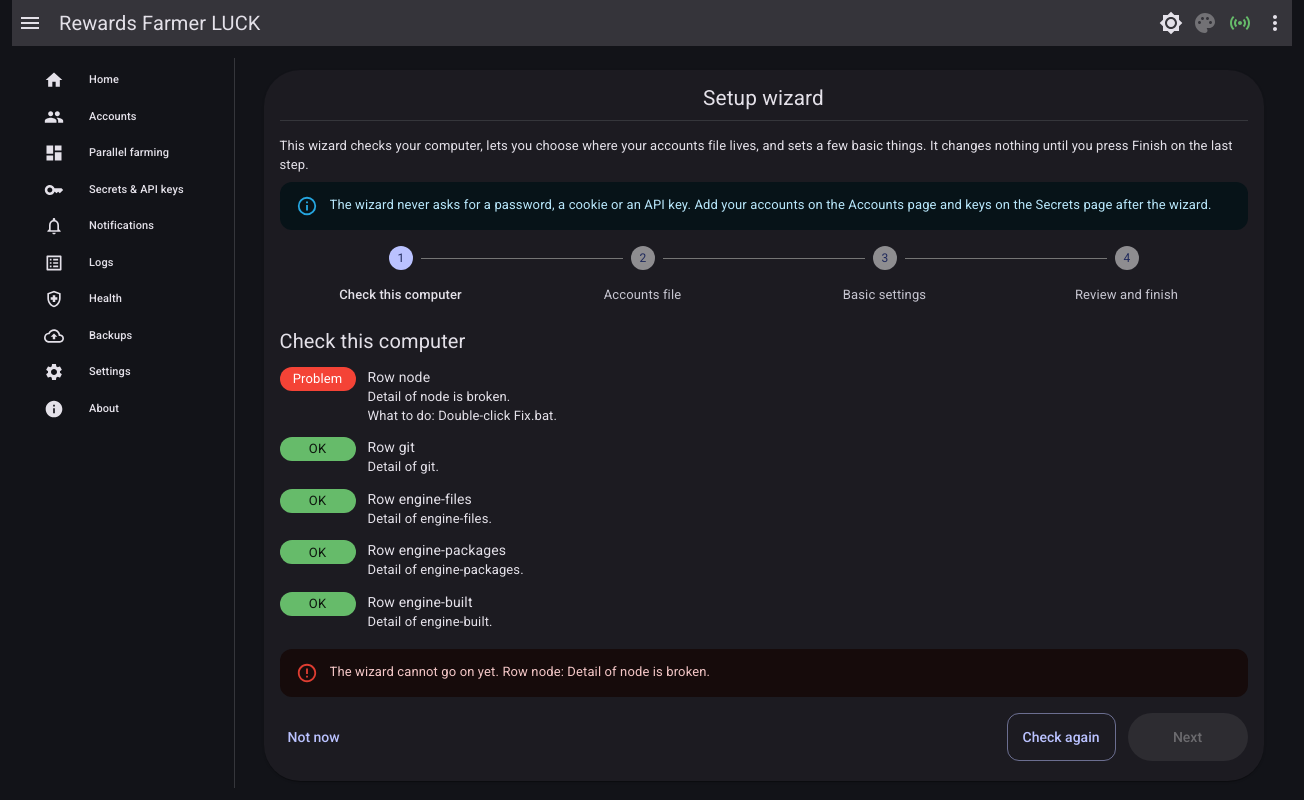
Test: step 1: computer check › Check again runs the check again and can turn the page green
The width and height of the screenshot is (1304, 800).
Check: the text "The wizard cannot go on yet." is shown, box x1=330 y1=664 x2=502 y2=680
What coordinates should you click on to do the following:
click the button "Check again"
I would click on:
 (1061, 738)
Its box is x1=1007 y1=714 x2=1116 y2=762.
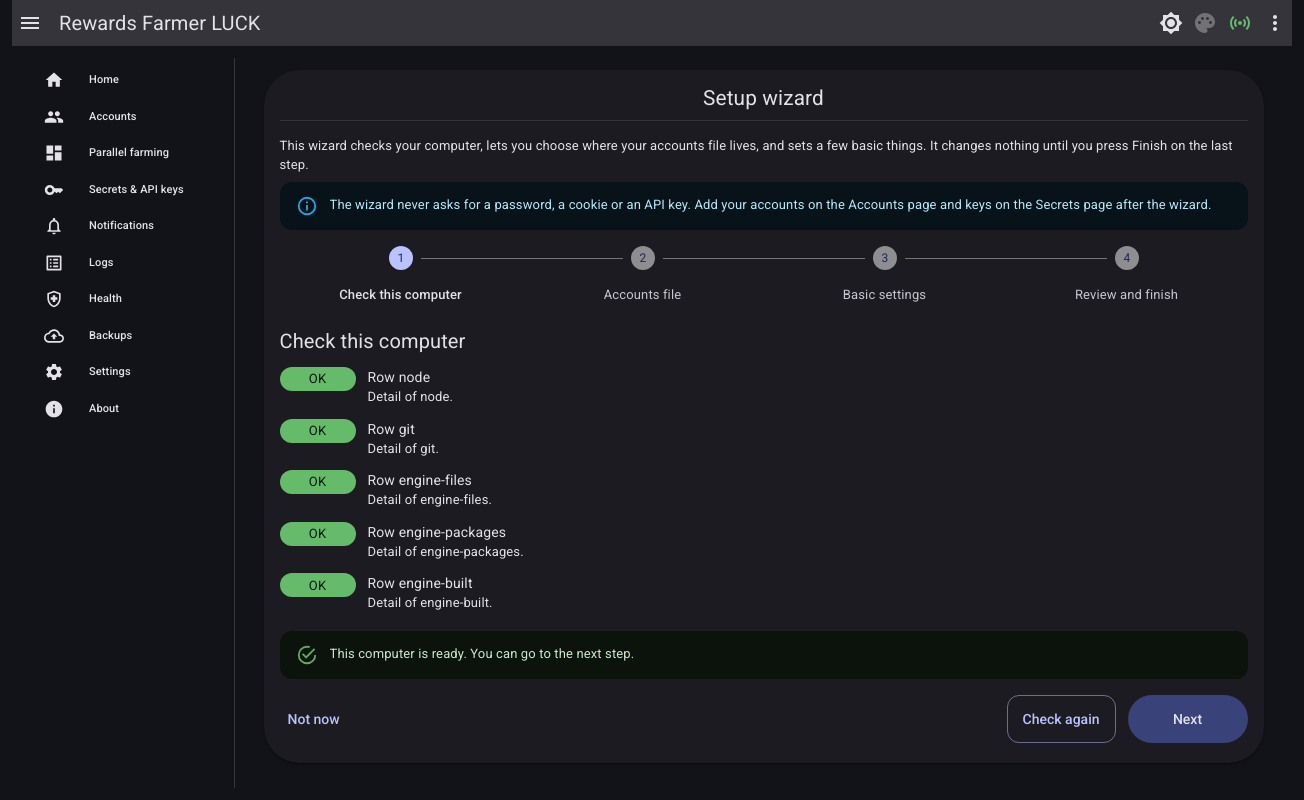
Check: the text "This computer is ready. You can go to the next step." is shown, box x1=330 y1=646 x2=634 y2=661
Check: the button "Next" is enabled, box x1=1128 y1=695 x2=1248 y2=743
